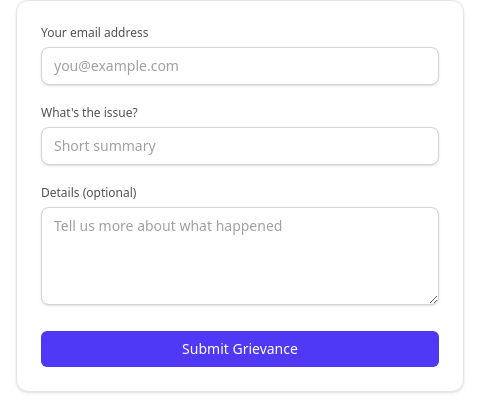
Test: GrievancePortal › submits the form and shows the confirmation on success
In the field labelled "Your email address": (240, 66) [41,47,439,85], type "alice@example.com"
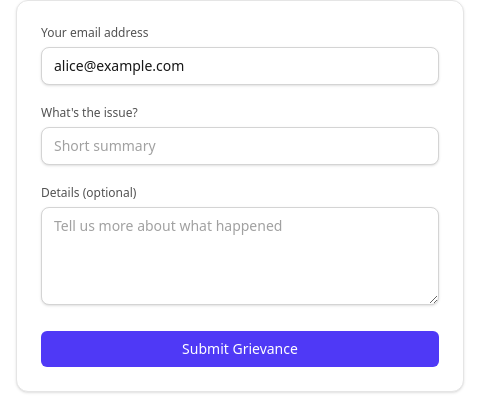
In the field labelled "What's the issue?": (240, 146) [41,127,439,165], type "Unwanted marketing"
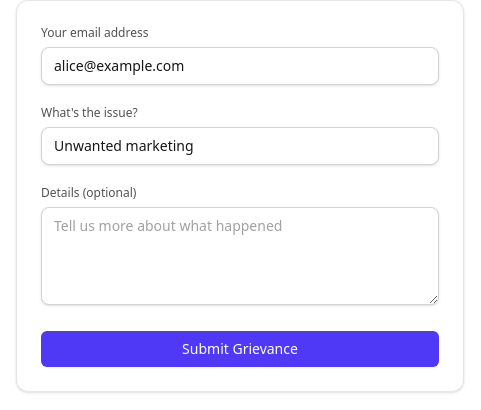
Click the button "Submit Grievance": (240, 349) [41,331,439,367]
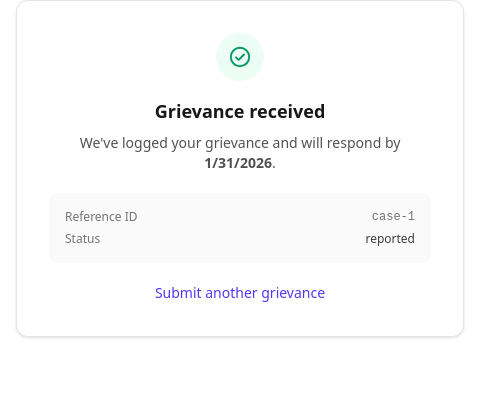
Result: the heading "Grievance received" is shown at [155,99,325,123]
Result: the text "case-1" is shown at [372,209,415,225]
